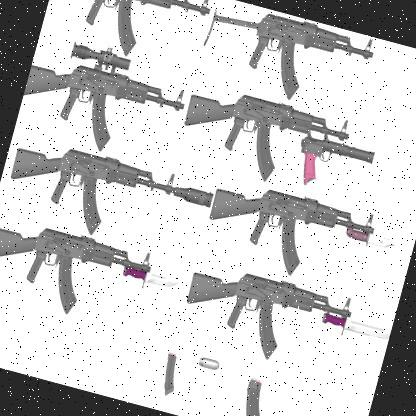rifle: (174, 258, 396, 389), (0, 130, 215, 258), (173, 82, 378, 209), (0, 211, 184, 347), (201, 178, 401, 298), (15, 39, 190, 168), (191, 0, 378, 120), (40, 0, 210, 71)
